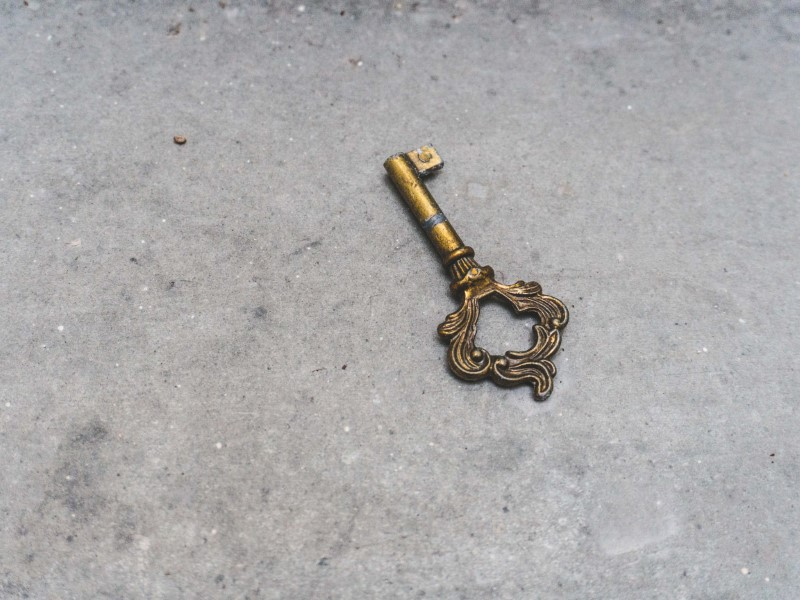key: (371, 134, 575, 405)
